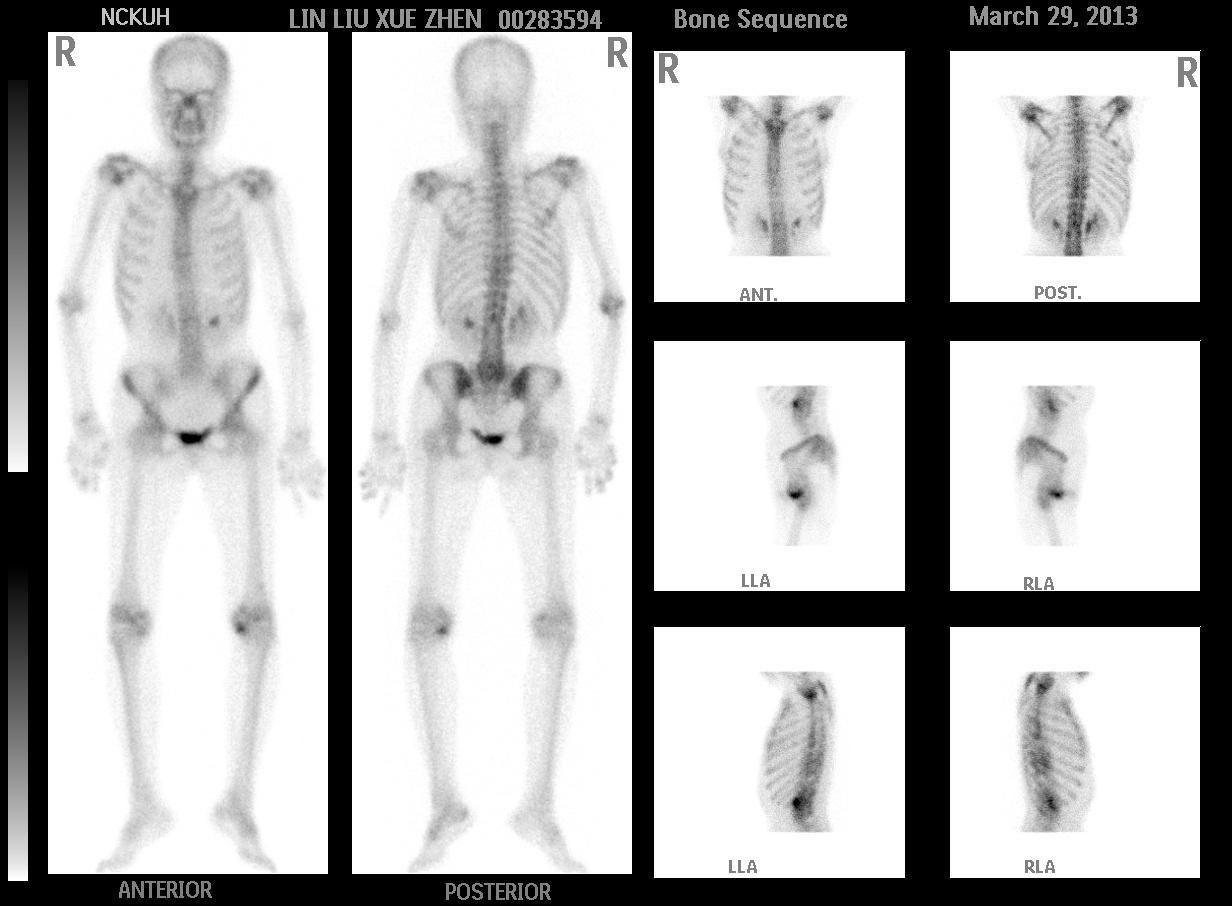person: (46, 31, 634, 876)
